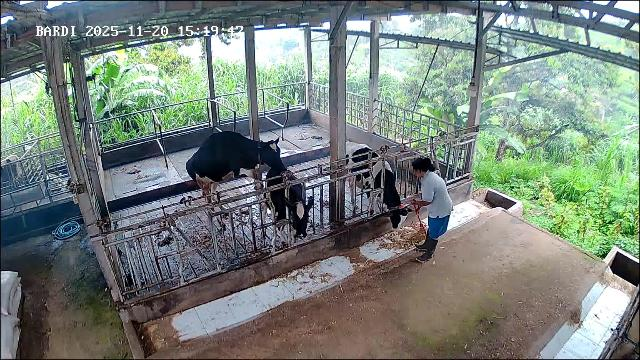mounting: (186, 130, 285, 220)
